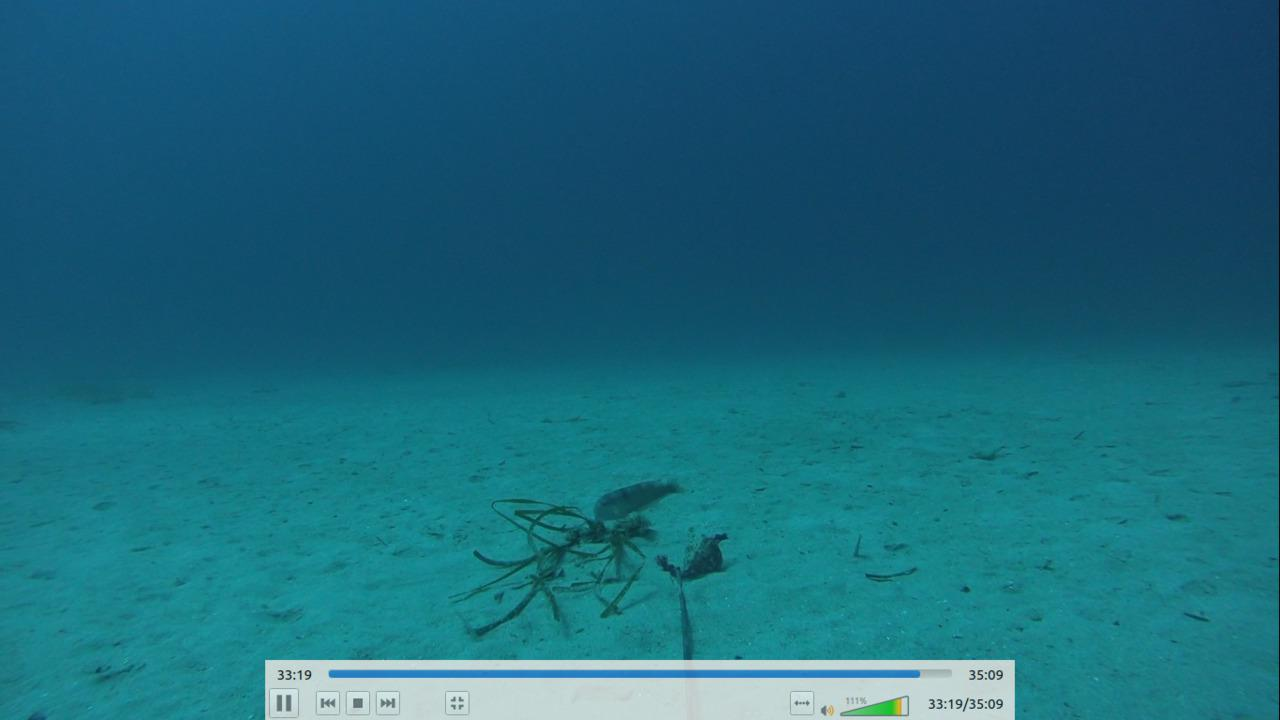raor: (586, 471, 689, 525)
